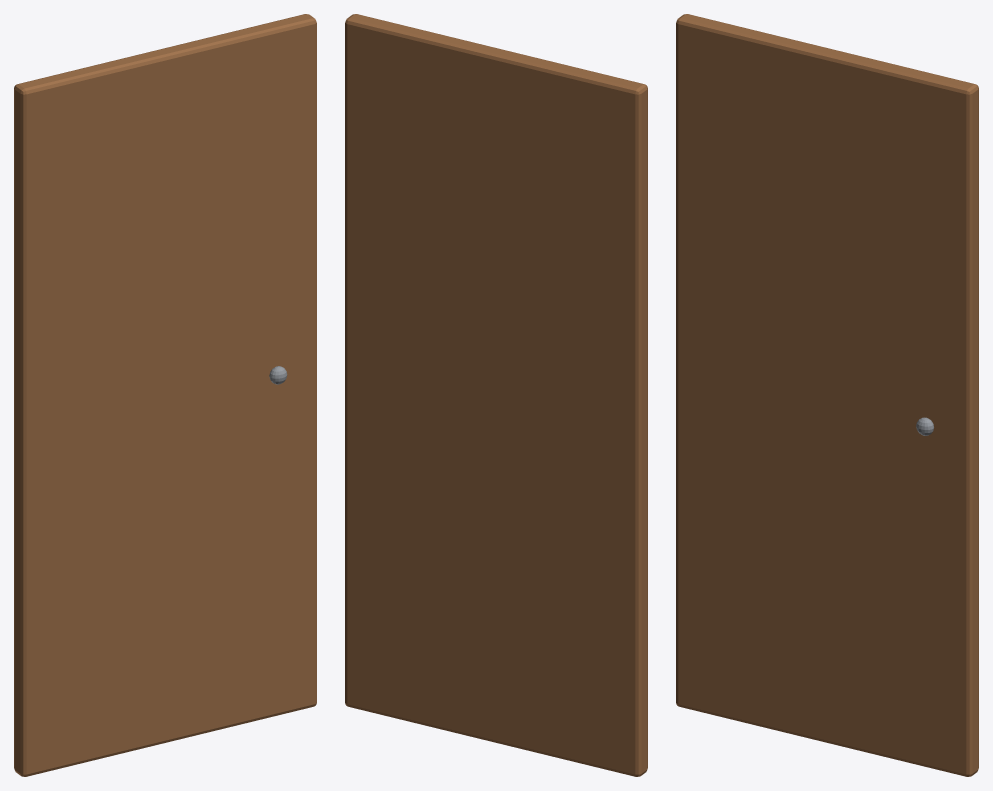
File: door_wooden.glb
3 views of the same model, side by side, from view 1: azimuth 30°, elevation 25°; view 2: azimuth 150°, elevation 25°; view 3: azimuth 330°, elevation 25° (orthographic).
Parts seen in each view (by area): view 1: door_wooden; view 2: door_wooden; view 3: door_wooden.
Boxes of the visible parts, bbox=[...] form: door_wooden: bbox=[14, 14, 316, 776]; door_wooden: bbox=[345, 14, 647, 776]; door_wooden: bbox=[676, 14, 978, 776].
Size of the model in its own units: 0.9 by 2 by 0.0875.
